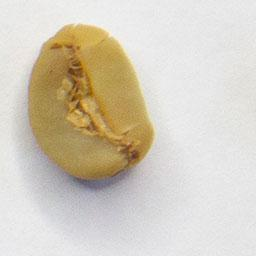defect: (24, 21, 158, 183)
